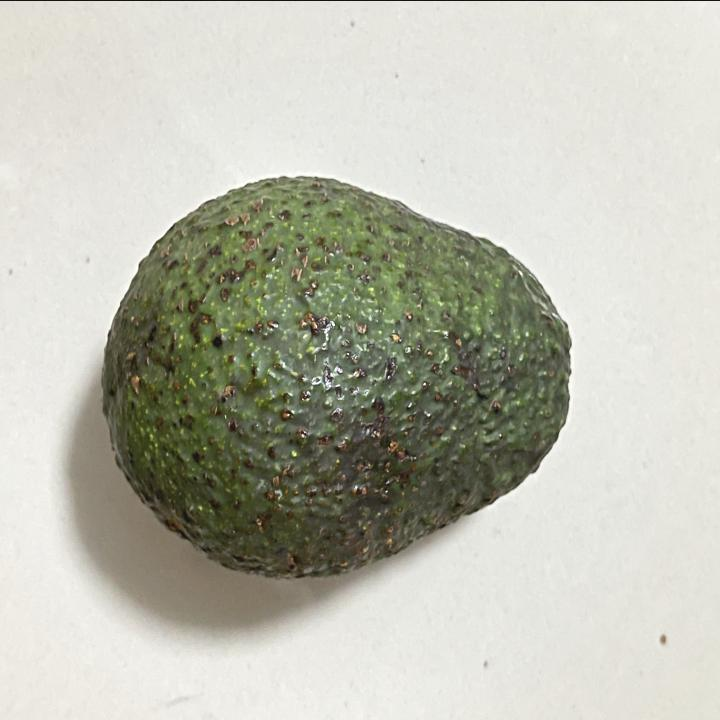Level1: (87, 154, 584, 592)
